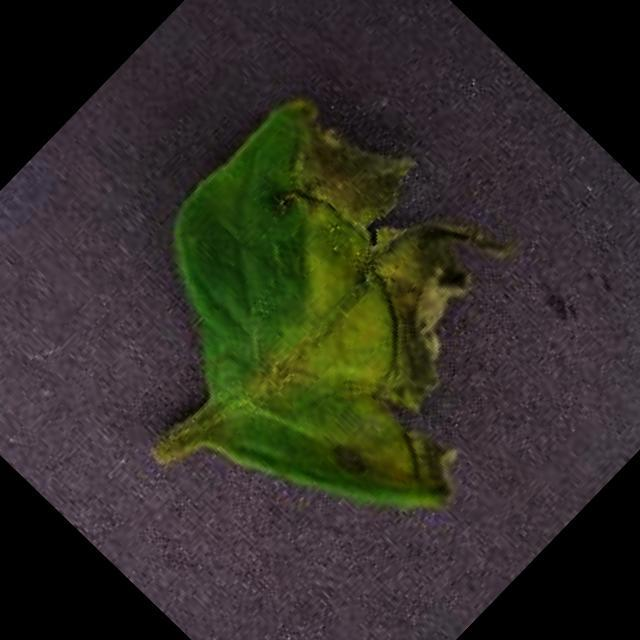Tomato late blight leaf: (61, 55, 610, 604)
